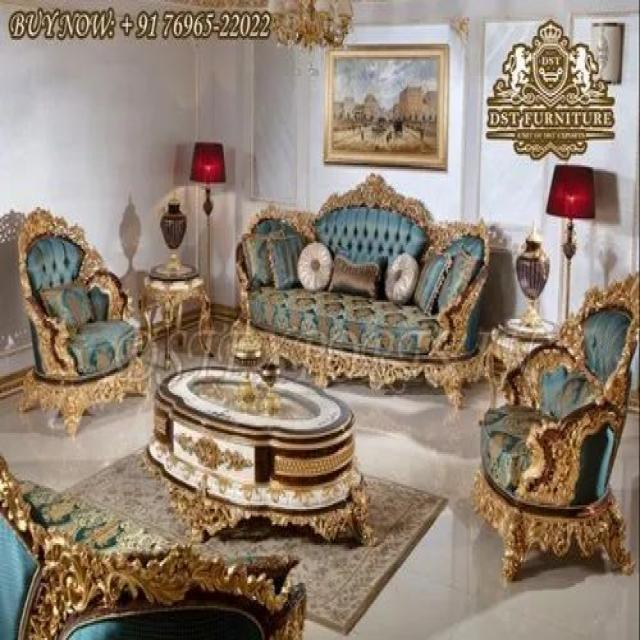sofa: (233, 170, 492, 408), (466, 274, 640, 584), (16, 206, 162, 434)
